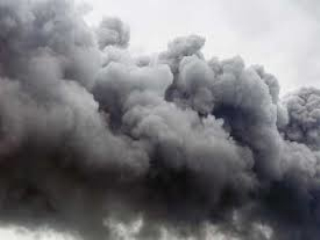smoke: (7, 19, 303, 220)
